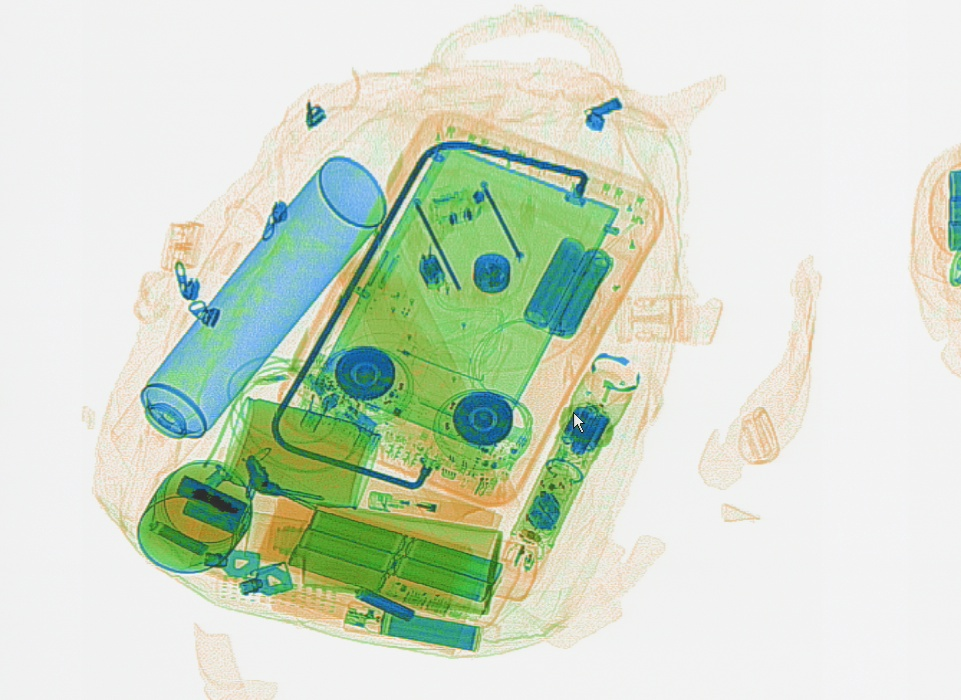lighter: (367, 487, 501, 536)
powerbank: (283, 498, 505, 626)
pressure: (109, 153, 390, 480)
